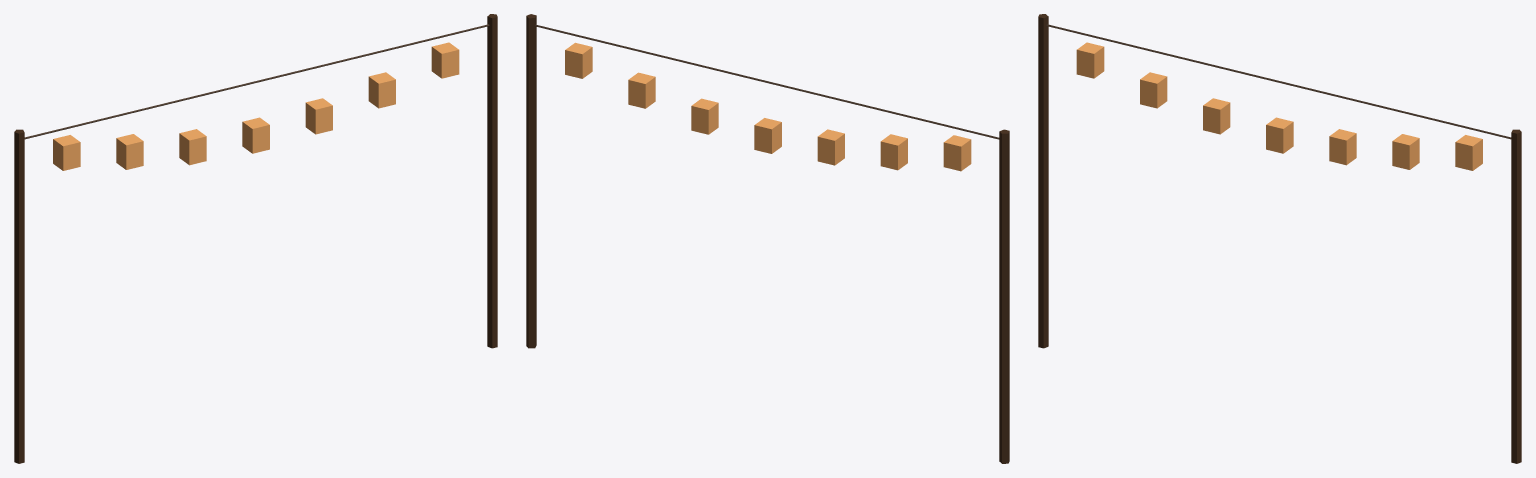
File: market_lantern_string.glb
3 views of the same model, side by side, from view 1: azimuth 30°, elevation 25°; view 2: azimuth 150°, elevation 25°; view 3: azimuth 330°, elevation 25° (orthographic).
Visible parts, largest first — view 1: market_lantern_string; view 2: market_lantern_string; view 3: market_lantern_string.
Boxes of the visible parts, x1=… form: market_lantern_string: x1=14, y1=14, x2=497, y2=463; market_lantern_string: x1=526, y1=14, x2=1009, y2=463; market_lantern_string: x1=1038, y1=14, x2=1521, y2=463.
Bounding box in the file's own units: 6.11 × 4 × 0.22.
